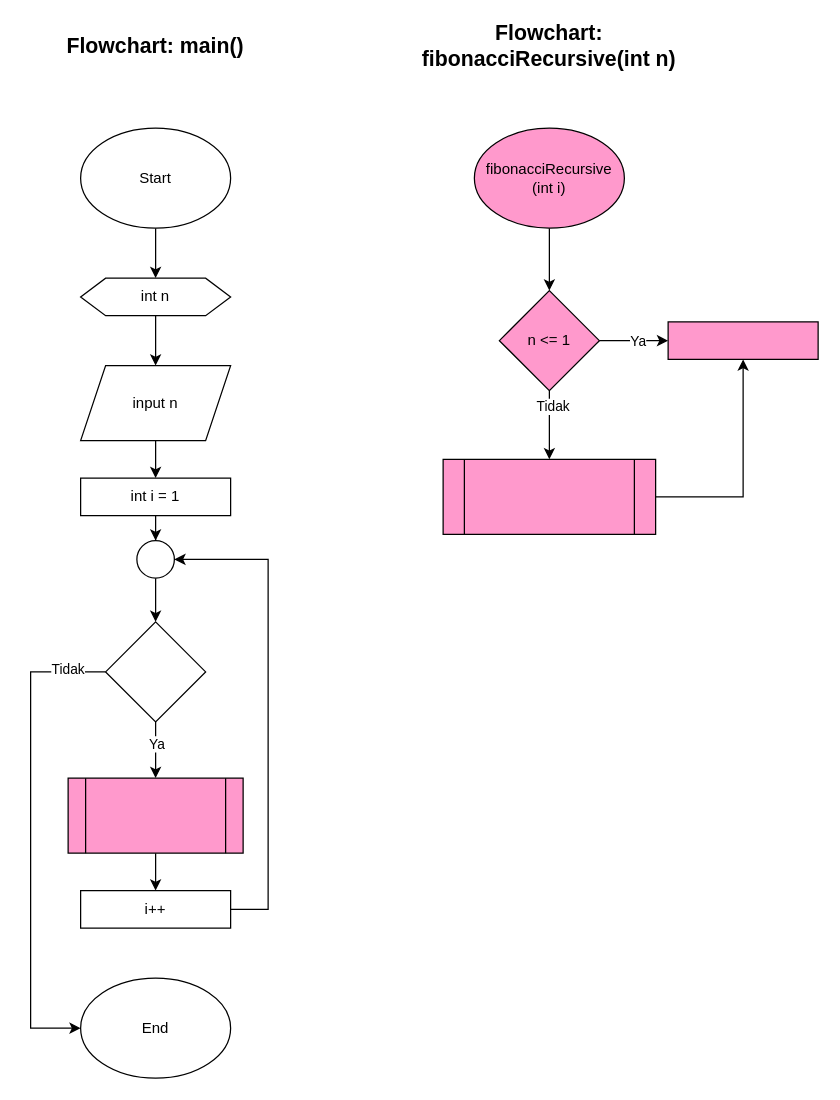
Some shapes in this 840 by 1100 pixel diagram are drawn without their labels. Each missing label, with the centre of its shape:
fibonacciRecursive (i) + " ": point (155, 815)
i <= n: point (155, 671)
n = fibonacciRecursive(n-1) +fibonacciRecursive(n-2): point (549, 496)
return n;: point (742, 340)
